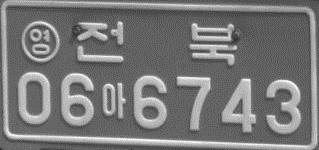0: (16, 70, 52, 126)
3: (265, 79, 301, 135)
4: (220, 76, 256, 133)
6: (58, 71, 95, 128), (132, 74, 167, 129)
7: (175, 75, 211, 131)
아: (101, 81, 125, 120)
영: (19, 20, 60, 63)
전북_D: (74, 20, 238, 67)
